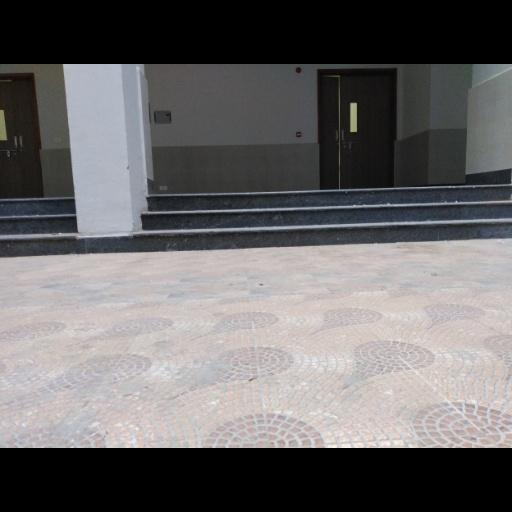stairs: (0, 184, 511, 255), (0, 198, 76, 256)
